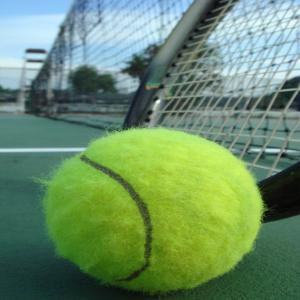TennisBall: (32, 125, 268, 299)
